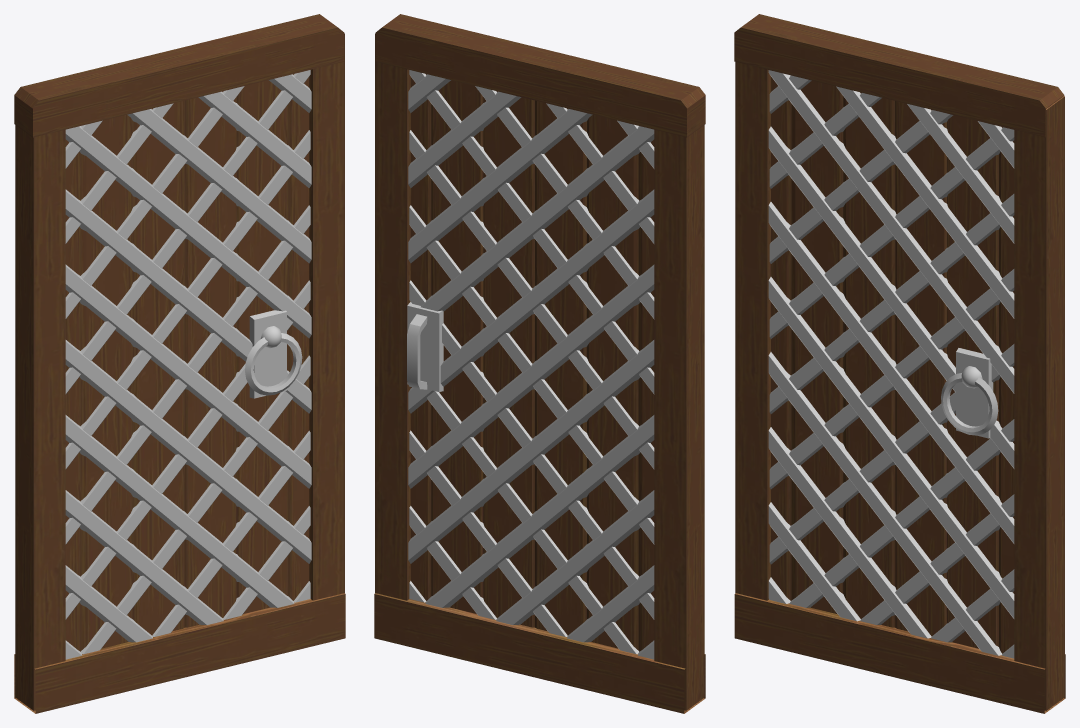
The model's file is Door_4_Flat.gltf.
3 renders of one model, left to right at view 1: azimuth 30°, elevation 25°; view 2: azimuth 150°, elevation 25°; view 3: azimuth 330°, elevation 25°, orthographic.
Parts seen in each view (by area): view 1: Door_4_Flat; view 2: Door_4_Flat; view 3: Door_4_Flat.
Part boxes in pixels (x1,y1,x2,y2): Door_4_Flat: (14, 14, 345, 713); Door_4_Flat: (374, 14, 705, 713); Door_4_Flat: (734, 14, 1065, 713).
Bounding box in the file's own units: 1.12 × 2.09 × 0.2093.
